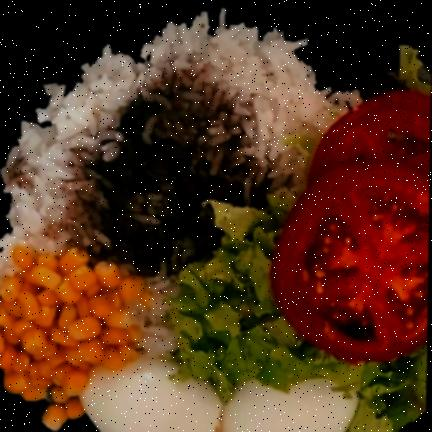beans: (55, 75, 272, 278)
corn: (0, 245, 149, 431)
egg: (80, 362, 361, 432)
rice: (0, 23, 359, 359)
salad: (171, 137, 427, 432)
tomato: (268, 88, 431, 363)
